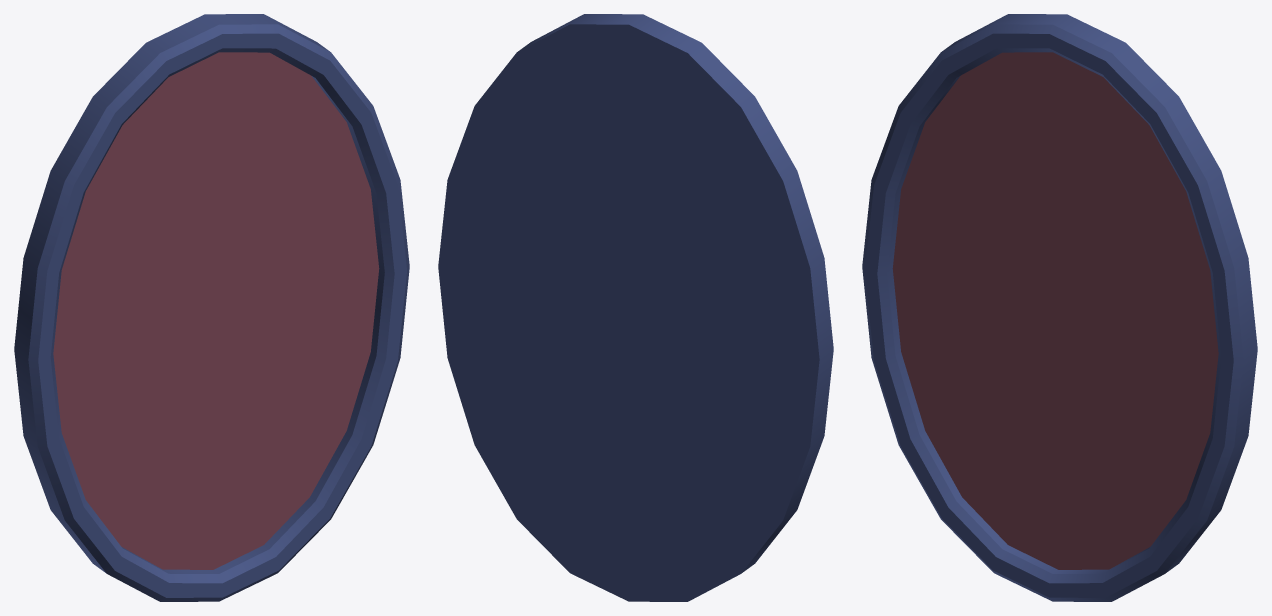
File: mirror.fbx
3 views of the same model, side by side, from view 1: azimuth 30°, elevation 25°; view 2: azimuth 150°, elevation 25°; view 3: azimuth 330°, elevation 25° (orthographic).
Parts seen in each view (by area): view 1: Mirror; view 2: Mirror; view 3: Mirror.
Boxes of the visible parts, bbox=[...] form: Mirror: bbox=[14, 14, 409, 601]; Mirror: bbox=[438, 14, 833, 601]; Mirror: bbox=[862, 14, 1257, 601].
Bounding box in the file's own units: 0.9684 × 1.4 × 0.0781.
